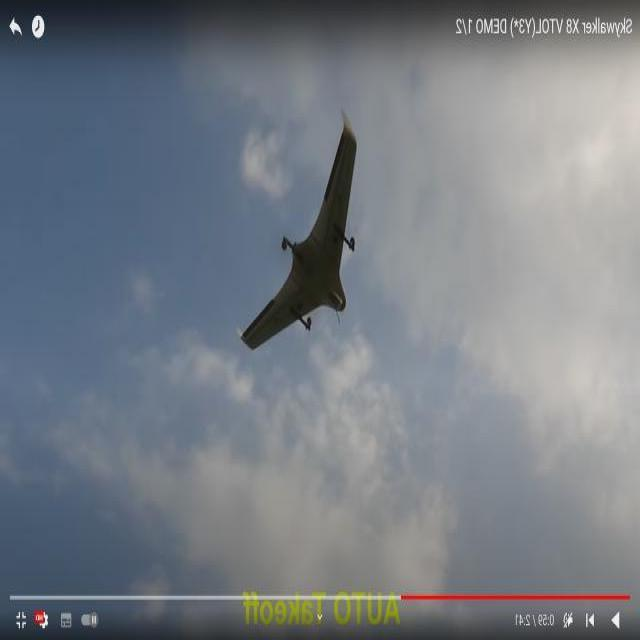iha: (271, 113, 335, 349)
